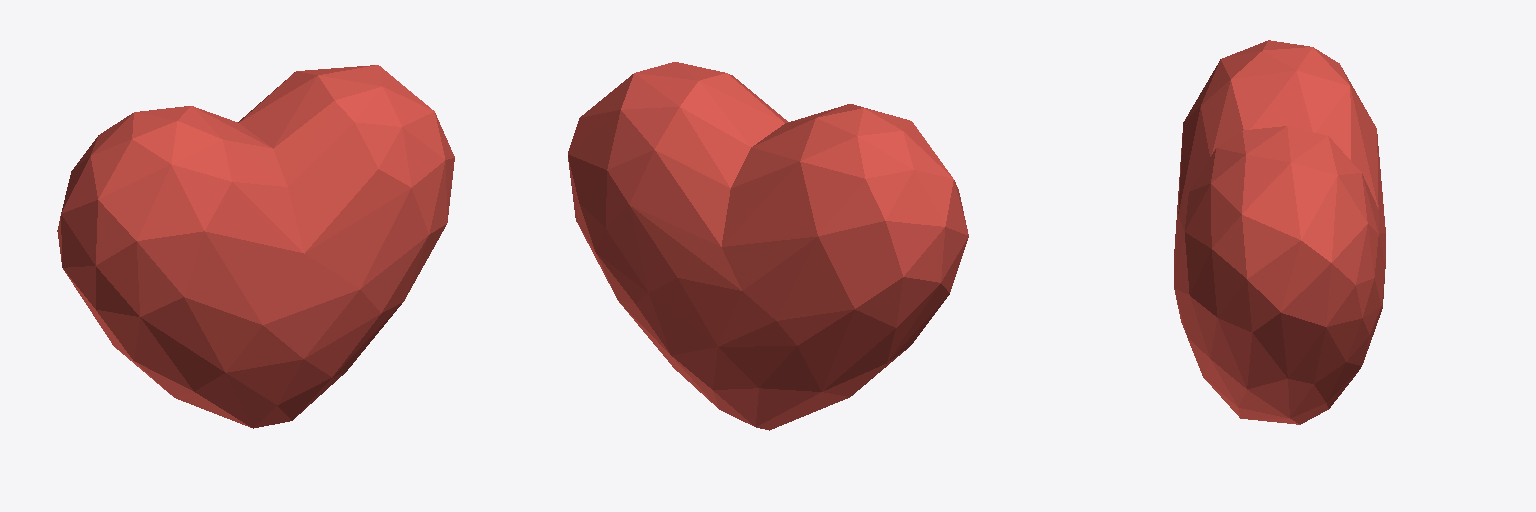
File: heart.obj
The picture shows the model from 3 angles: view 1: azimuth 30°, elevation 25°; view 2: azimuth 150°, elevation 25°; view 3: azimuth 270°, elevation 25°; orthographic projection.
Parts seen in each view (by area): view 1: Love; view 2: Love; view 3: Love.
Boxes of the visible parts, box(x1,y1,x2,y2) form: Love: box(57, 65, 454, 428); Love: box(568, 62, 968, 430); Love: box(1174, 40, 1385, 424).
Size of the model in its own units: 80.33 by 67.16 by 39.58.